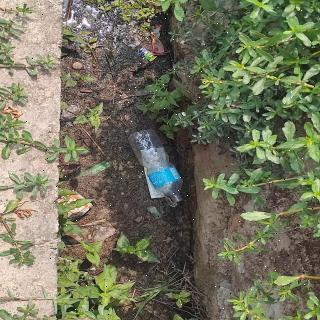Plastic-bottle: (126, 127, 188, 208)
